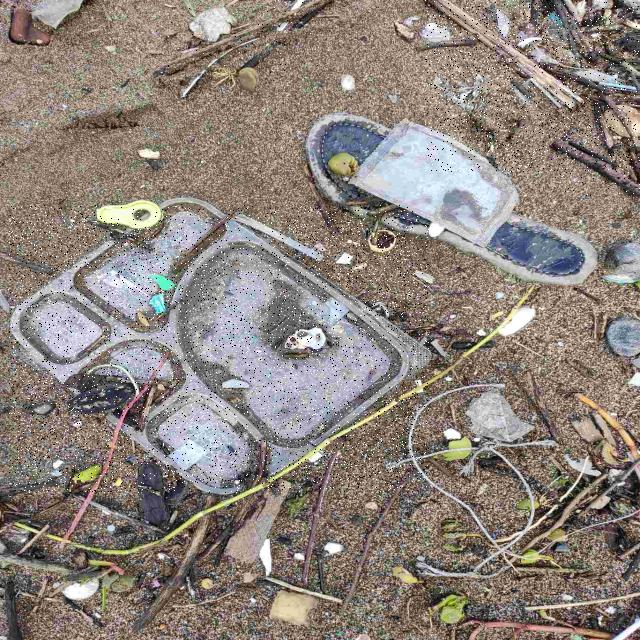biowaste: (426, 0, 639, 172), (152, 0, 329, 75), (552, 138, 640, 196)
paper: (10, 205, 429, 493)
